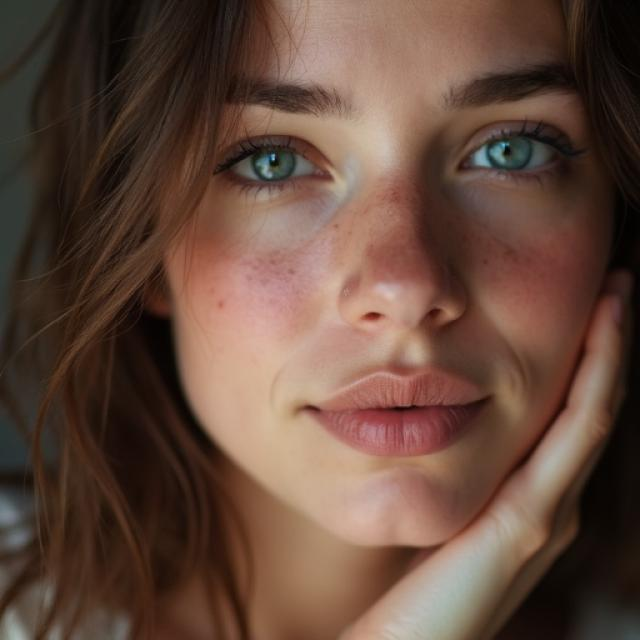no_dark_circle: (456, 168, 598, 222), (218, 186, 354, 221)
